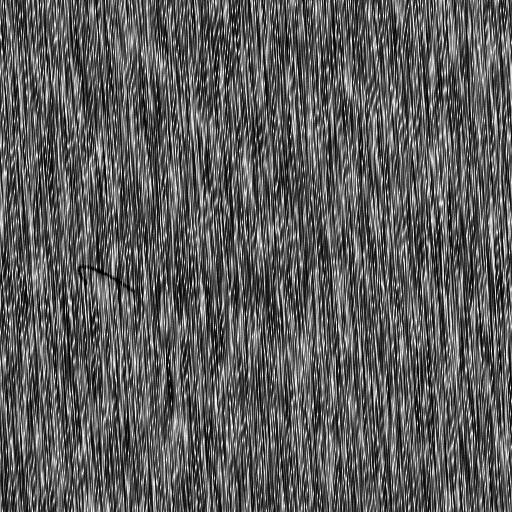DefectTypeC: (76, 267, 138, 295)
